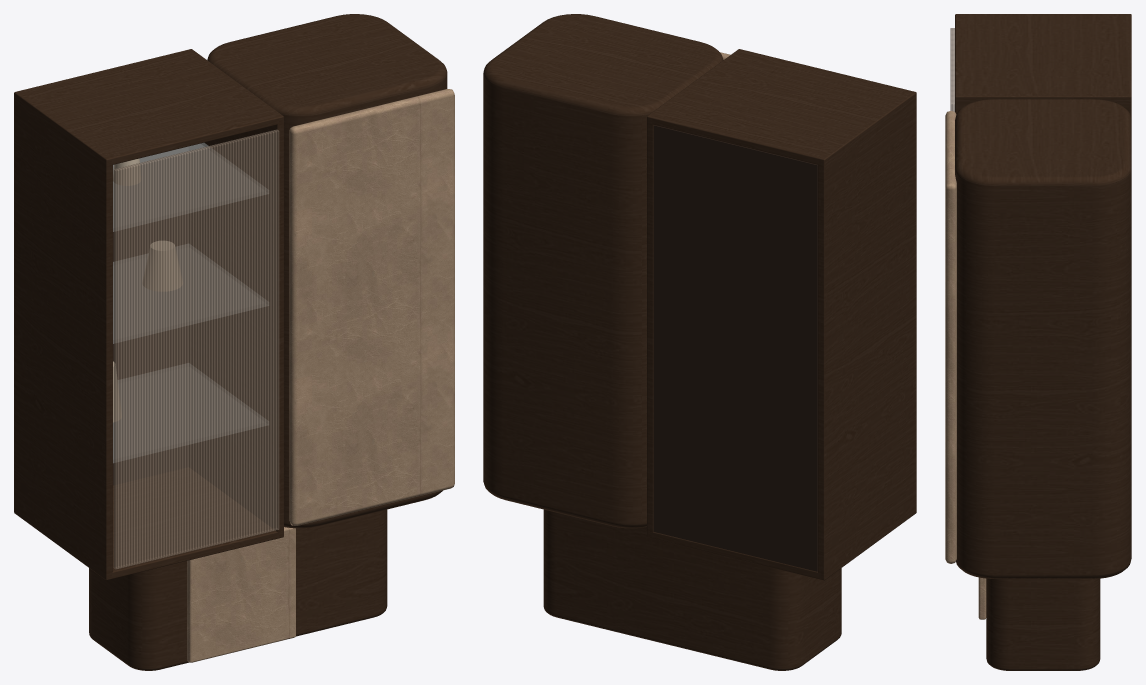
File: nepal-showglass.glb
3 renders of one model, left to right at view 1: azimuth 30°, elevation 25°; view 2: azimuth 150°, elevation 25°; view 3: azimuth 270°, elevation 25°, orthographic. The views are drawn at different scales.
Parts seen in each view (by area): view 1: glassdoor, leatherdoor, caseL_side-1, caseL_side1, caseR, stand, caseL_top, caseL_bot, standfront, shelf0.62, shelf0.94, shelf1.24 (+3 smaller); view 2: caseR, caseL_back, caseL_side-1, stand, caseL_top, caseL_side1, caseL_bot; view 3: caseR, caseL_top, stand, leatherdoor, caseL_side1, caseL_side-1, glassdoor, standfront.
Part boxes in pixels (x1,y1,x2,y2): glassdoor: (113,129,279,569); leatherdoor: (289,89,454,525); caseL_side-1: (14,91,112,580); caseL_side1: (186,49,283,532); caseR: (207,14,447,528); stand: (89,509,387,670); caseL_top: (14,49,283,165); caseL_bot: (14,467,283,580); standfront: (187,527,295,662); shelf0.62: (113,363,268,462); shelf0.94: (113,244,268,343); shelf1.24: (113,143,268,231); caseR: (483,14,723,528); caseL_back: (653,125,817,571); caseL_side-1: (818,91,916,580); stand: (543,509,841,670); caseL_top: (647,49,916,165); caseL_side1: (647,49,743,537); caseL_bot: (647,513,915,580); caseR: (955,99,1131,578); caseL_top: (955,14,1131,102); stand: (986,578,1100,670); leatherdoor: (945,111,956,563); caseL_side1: (955,93,1131,118); caseL_side-1: (956,14,1130,16); glassdoor: (950,28,954,111); standfront: (978,577,986,619).
Size of the model in its own units: 1 by 1.45 by 0.475.
6 materials, 3 textured.
